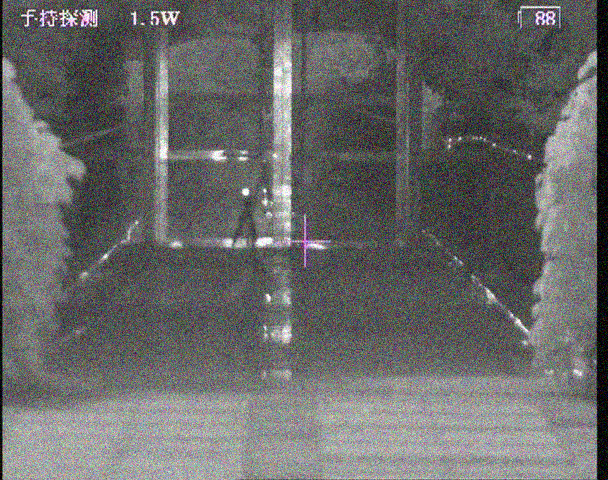my: (240, 187, 250, 197)
